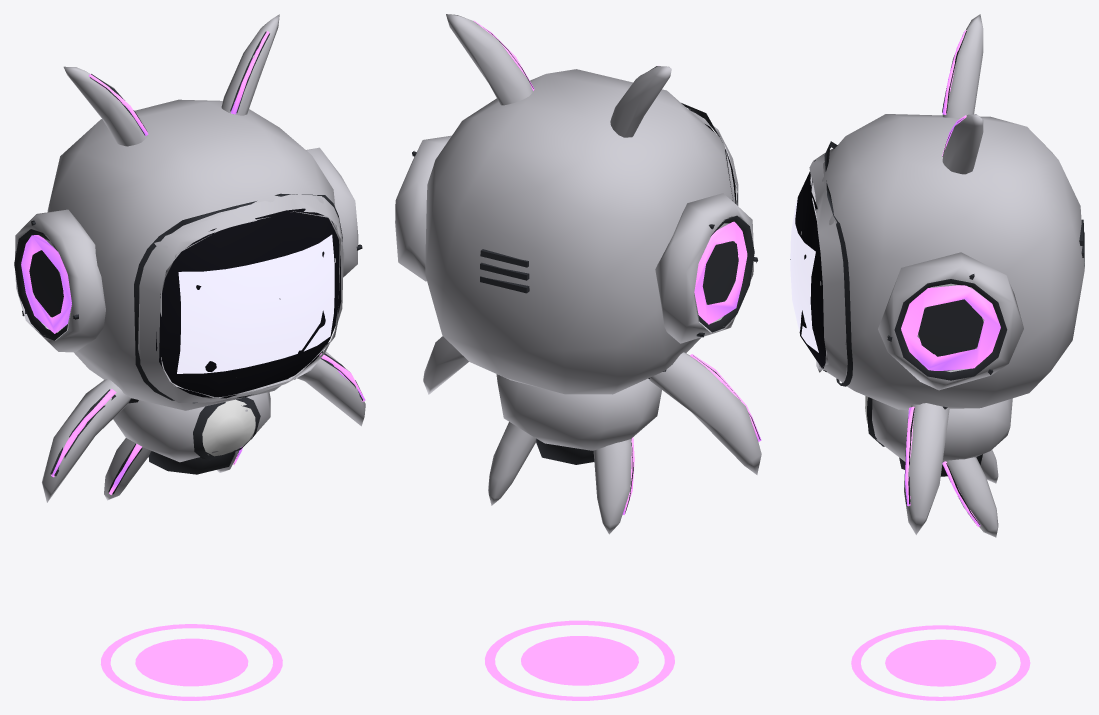
File: robot_map.glb
3 renders of one model, left to right at view 1: azimuth 30°, elevation 25°; view 2: azimuth 150°, elevation 25°; view 3: azimuth 270°, elevation 25°, orthographic. The views are drawn at different scales.
Parts seen in each view (by area): view 1: Head, Face, EarpodR, Hover, Body, ArmR, AntennaR, AntennaL, ArmL, Emblem, EarpodL, FinLowR; view 2: Head, EarpodR, Body, Hover, ArmR, EarpodL, AntennaL, FinLowR, AntennaR, FinLowL, ArmL; view 3: Head, EarpodL, Hover, Body, ArmL, AntennaR, FinLowL, Face, AntennaL.
Boxes of the visible parts, x1=… form: Head: x1=45, y1=99, x2=343, y2=410; Face: x1=177, y1=234, x2=334, y2=373; EarpodR: x1=14, y1=209, x2=105, y2=352; Hover: x1=100, y1=624, x2=282, y2=700; Body: x1=113, y1=392, x2=270, y2=474; ArmR: x1=42, y1=379, x2=138, y2=502; AntennaR: x1=63, y1=66, x2=148, y2=146; AntennaL: x1=221, y1=14, x2=279, y2=115; ArmL: x1=297, y1=350, x2=365, y2=426; Emblem: x1=202, y1=399, x2=255, y2=456; EarpodL: x1=306, y1=147, x2=362, y2=277; FinLowR: x1=104, y1=438, x2=151, y2=500; Head: x1=425, y1=69, x2=738, y2=394; EarpodR: x1=655, y1=193, x2=757, y2=343; Body: x1=496, y1=374, x2=661, y2=464; Hover: x1=485, y1=620, x2=674, y2=700; ArmR: x1=648, y1=352, x2=761, y2=474; EarpodL: x1=395, y1=135, x2=451, y2=281; AntennaL: x1=446, y1=14, x2=534, y2=105; FinLowR: x1=593, y1=437, x2=634, y2=534; AntennaR: x1=610, y1=65, x2=671, y2=137; FinLowL: x1=488, y1=422, x2=536, y2=505; ArmL: x1=423, y1=336, x2=468, y2=394; Head: x1=790, y1=114, x2=1084, y2=409; EarpodL: x1=878, y1=252, x2=1023, y2=390; Hover: x1=851, y1=625, x2=1030, y2=700; Body: x1=867, y1=397, x2=1012, y2=476; ArmL: x1=904, y1=403, x2=949, y2=534; AntennaR: x1=942, y1=14, x2=983, y2=117; FinLowL: x1=942, y1=457, x2=998, y2=537; Face: x1=790, y1=198, x2=818, y2=352; AntennaL: x1=942, y1=114, x2=983, y2=174.
Size of the model in its own units: 0.7566 by 1.36 by 0.6081.
